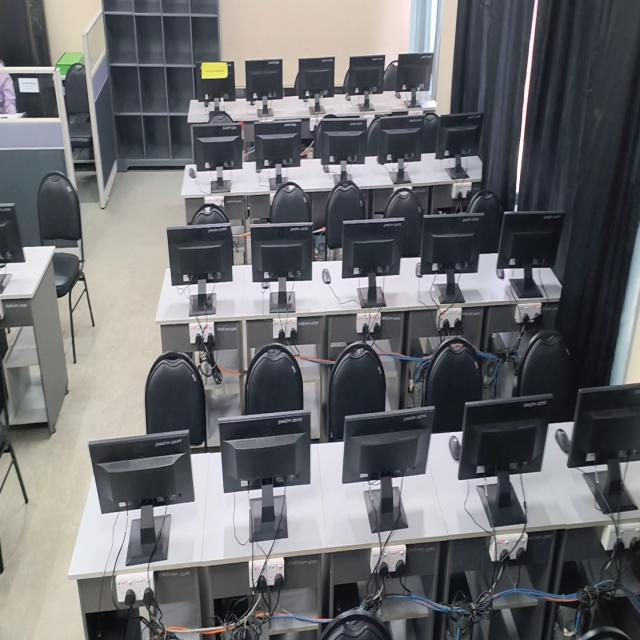Chair: (37, 171, 94, 363), (328, 341, 386, 441), (145, 351, 206, 446), (423, 337, 482, 432), (519, 330, 576, 423), (244, 343, 303, 414), (325, 172, 365, 249), (63, 63, 94, 159), (383, 188, 424, 256), (466, 190, 503, 253), (268, 182, 311, 223), (189, 203, 229, 225), (421, 113, 440, 153), (367, 115, 381, 155), (383, 60, 398, 91)
Monitor: (342, 409, 435, 529), (89, 431, 194, 513), (458, 394, 555, 482), (220, 410, 311, 492), (567, 384, 640, 468), (419, 213, 484, 302), (342, 218, 404, 306), (167, 220, 233, 285), (497, 211, 564, 269), (251, 223, 313, 281), (369, 115, 424, 164), (313, 116, 367, 165), (192, 123, 243, 170), (254, 120, 301, 170), (436, 113, 483, 158), (343, 56, 385, 97), (294, 57, 335, 98), (245, 59, 283, 103), (195, 61, 235, 101), (396, 53, 433, 91), (0, 203, 24, 261)
Mouse: (555, 428, 570, 453), (449, 435, 461, 461), (322, 268, 331, 284), (189, 167, 196, 178), (416, 262, 421, 277)
